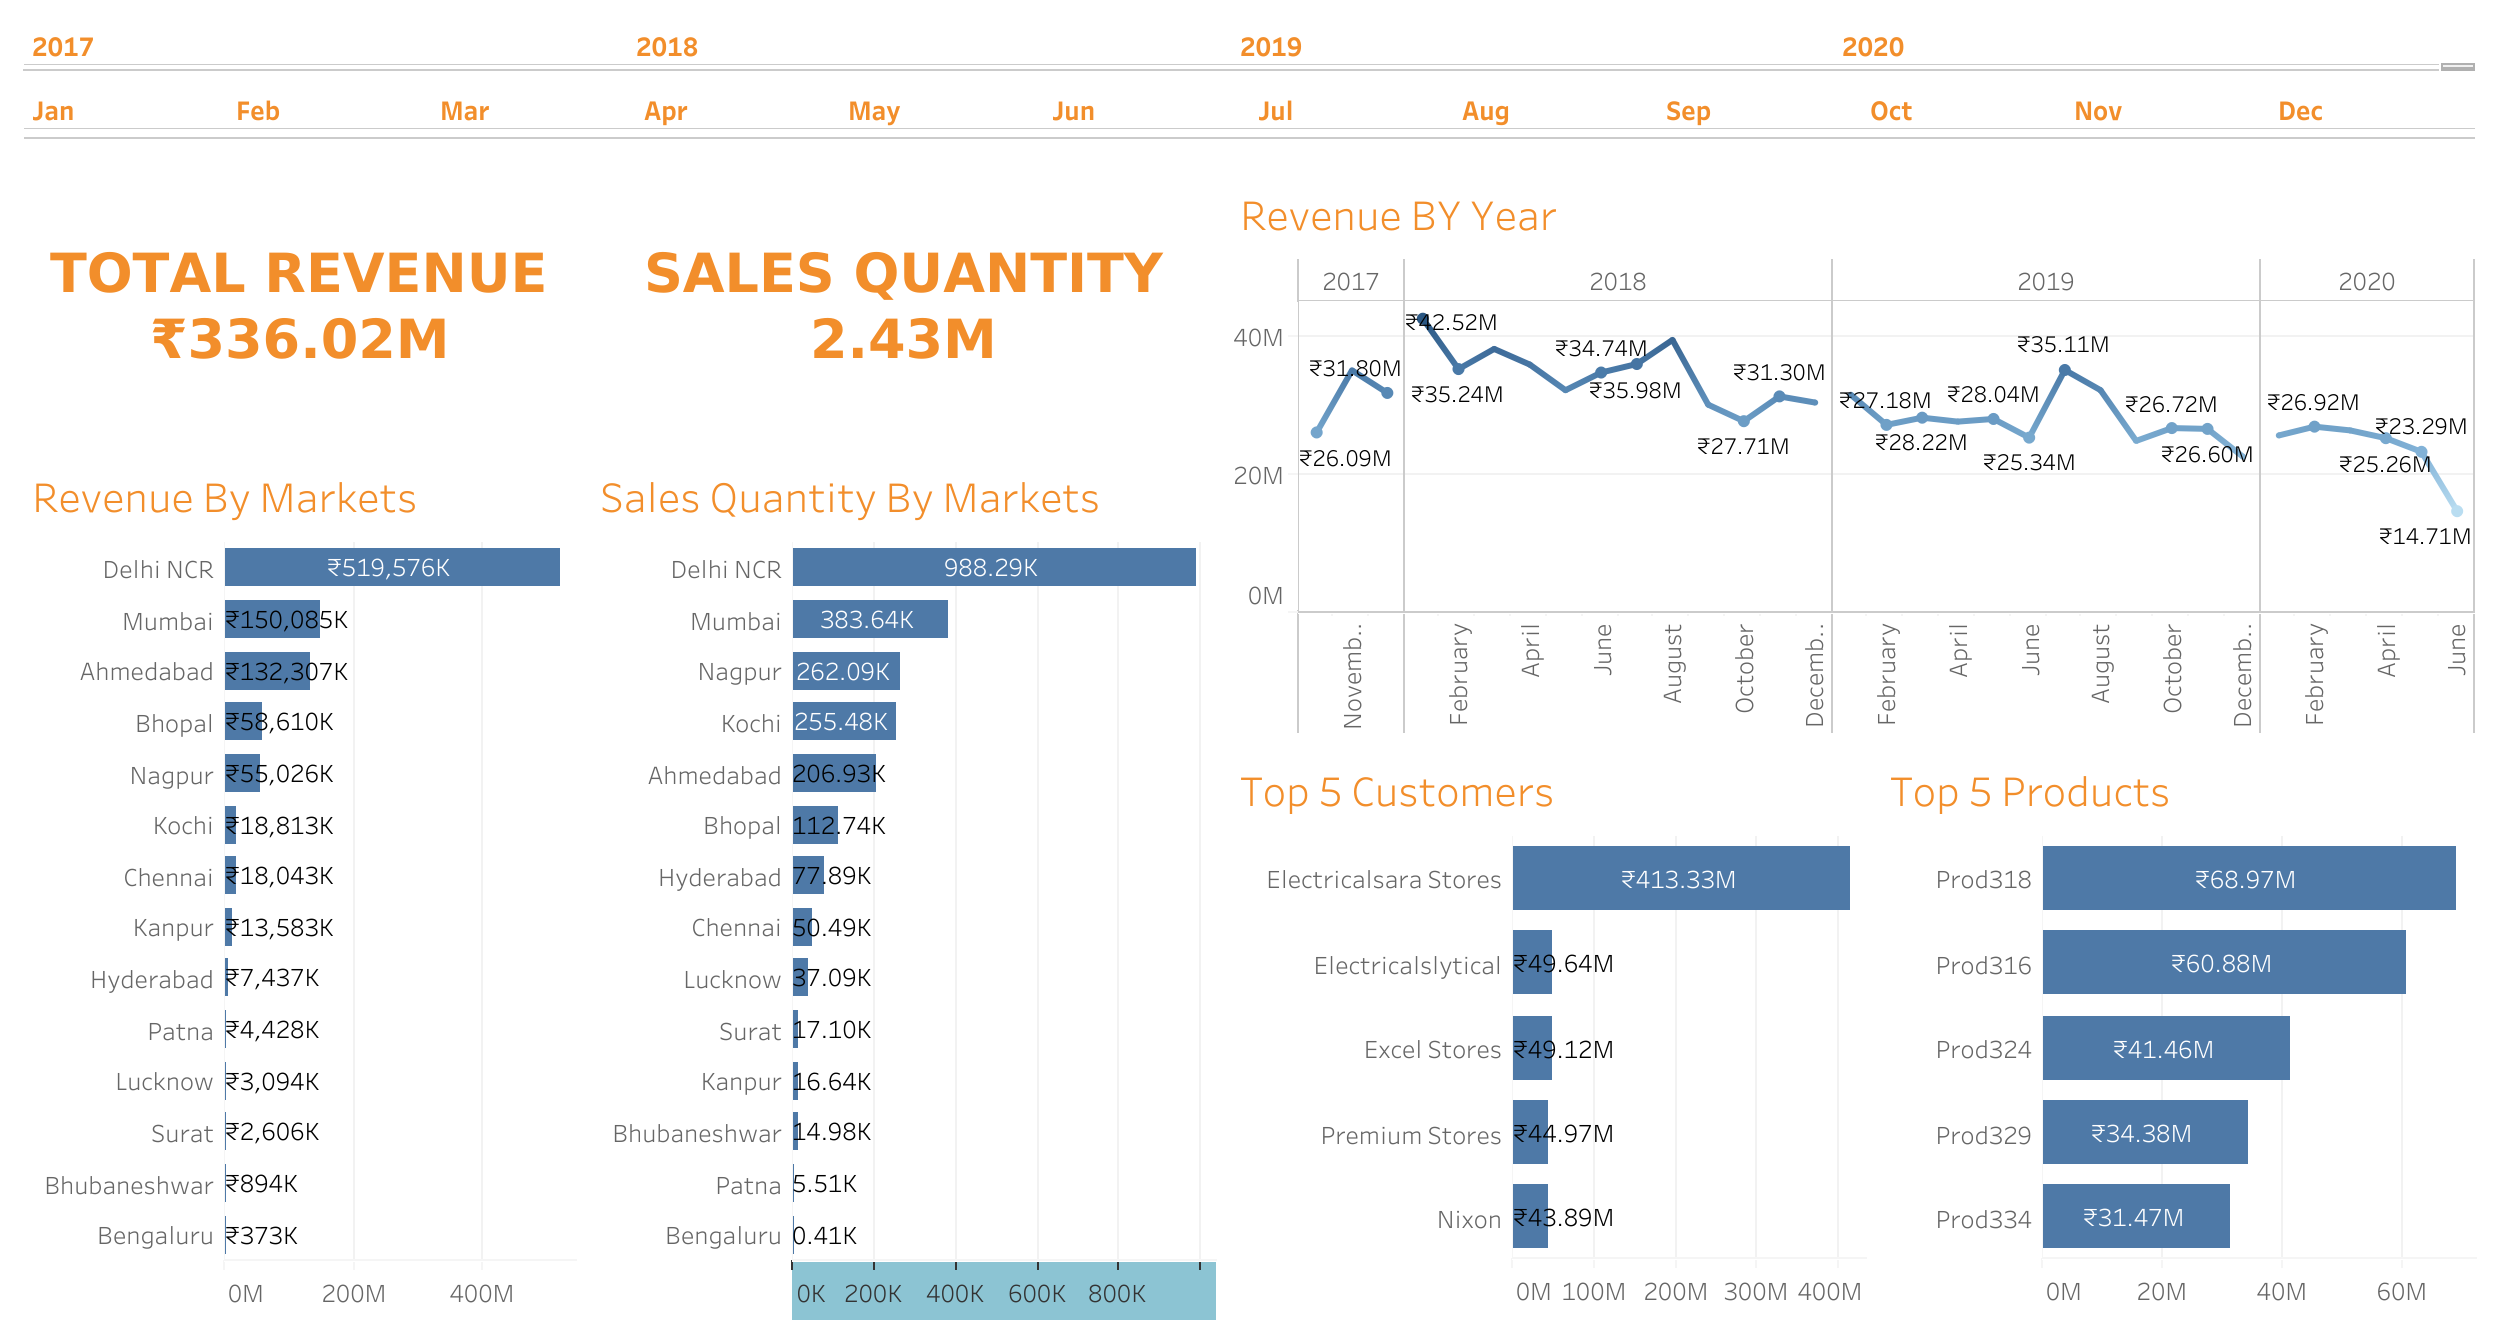

The page's visual inventory and layout, read from the dashboard file:
{"tool":"tableau","page":{"name":"Revenue Analysis","canvas":[1000,1000],"units":"permille","ordinal":1},"visuals":[{"type":"worksheet","title":"Sheet 8","mark":"Automatic","cols":["cy_date"],"box":[6.5,10.6,987,47.7]},{"type":"worksheet","title":"Sheet 9","mark":"Automatic","cols":["cy_date"],"box":[6.5,58.3,987,63.6]},{"type":"worksheet","title":"REVENUE","mark":"Automatic","box":[6.5,121.8,226.9,210.6]},{"type":"worksheet","title":"QUANTITY","mark":"Automatic","box":[233.4,121.8,256.4,210.6]},{"type":"worksheet","title":"Revenue BY Year","mark":"Automatic","rows":["Calculation_6123840006358433792"],"cols":["cy_date","cy_date"],"box":[489.8,121.8,503.7,430.5]},{"type":"worksheet","title":"Revenue By Markets","mark":"Automatic","rows":["markets_name"],"cols":["Calculation_6123840006358433792"],"box":[6.5,332.4,226.9,657]},{"type":"worksheet","title":"Sales Quantity By Markets","mark":"Automatic","rows":["markets_name"],"cols":["sales_qty"],"box":[233.4,332.4,256.4,657]},{"type":"worksheet","title":"Top 5 Customers","mark":"Automatic","rows":["custmer_name"],"cols":["Calculation_6123840006358433792"],"box":[489.8,552.3,259.6,437.1]},{"type":"worksheet","title":"Top 5 Products","mark":"Automatic","rows":["product_code"],"cols":["Calculation_6123840006358433792"],"box":[749.4,552.3,244.1,437.1]}]}

Visuals, with their boxes on the dashboard's canvas, which has no fixed pixel size, in thousandths of its width and height (x1, y1, x2, y2). These are canvas units, not pixel positions in the 2498x1342 screenshot, which may show the page scaled, cropped or inside an application window:
"Sheet 8" worksheet: {"left": 6, "top": 11, "right": 994, "bottom": 58}
"Sheet 9" worksheet: {"left": 6, "top": 58, "right": 994, "bottom": 122}
"REVENUE" worksheet: {"left": 6, "top": 122, "right": 233, "bottom": 332}
"QUANTITY" worksheet: {"left": 233, "top": 122, "right": 490, "bottom": 332}
"Revenue BY Year" worksheet: {"left": 490, "top": 122, "right": 994, "bottom": 552}
"Revenue By Markets" worksheet: {"left": 6, "top": 332, "right": 233, "bottom": 989}
"Sales Quantity By Markets" worksheet: {"left": 233, "top": 332, "right": 490, "bottom": 989}
"Top 5 Customers" worksheet: {"left": 490, "top": 552, "right": 749, "bottom": 989}
"Top 5 Products" worksheet: {"left": 749, "top": 552, "right": 994, "bottom": 989}
